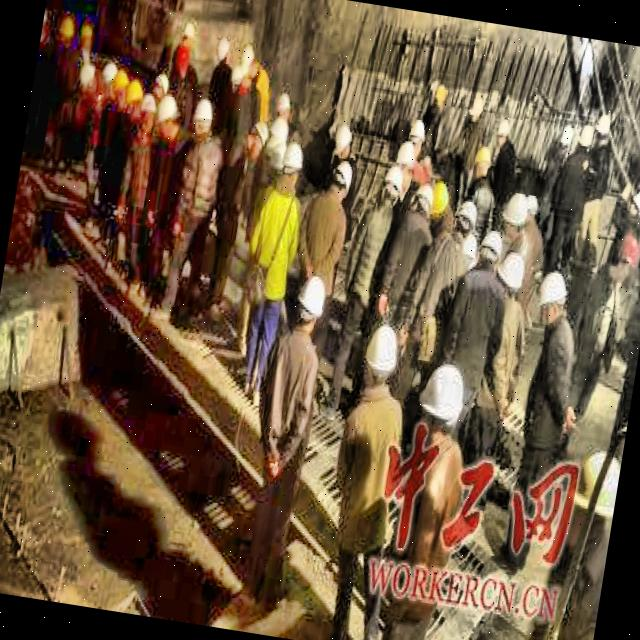helmet: (412, 354, 473, 449), (357, 315, 409, 405), (288, 264, 330, 342), (532, 268, 572, 336), (149, 92, 191, 152), (276, 134, 310, 196), (492, 246, 529, 302), (496, 189, 533, 243), (474, 222, 508, 280), (326, 114, 361, 170), (608, 225, 640, 286), (324, 157, 359, 210), (404, 172, 437, 228), (372, 162, 407, 214), (446, 197, 480, 246), (424, 180, 454, 231), (133, 90, 164, 138), (189, 94, 219, 143), (389, 140, 421, 184), (402, 114, 431, 158), (74, 60, 103, 104), (242, 116, 272, 158), (593, 103, 618, 153), (119, 76, 148, 118), (571, 113, 596, 161), (106, 65, 134, 106), (469, 143, 496, 182), (169, 44, 196, 82), (54, 9, 78, 46), (98, 60, 120, 100), (212, 33, 235, 67), (178, 16, 198, 48), (494, 116, 514, 148), (274, 91, 295, 121), (625, 181, 640, 223)
